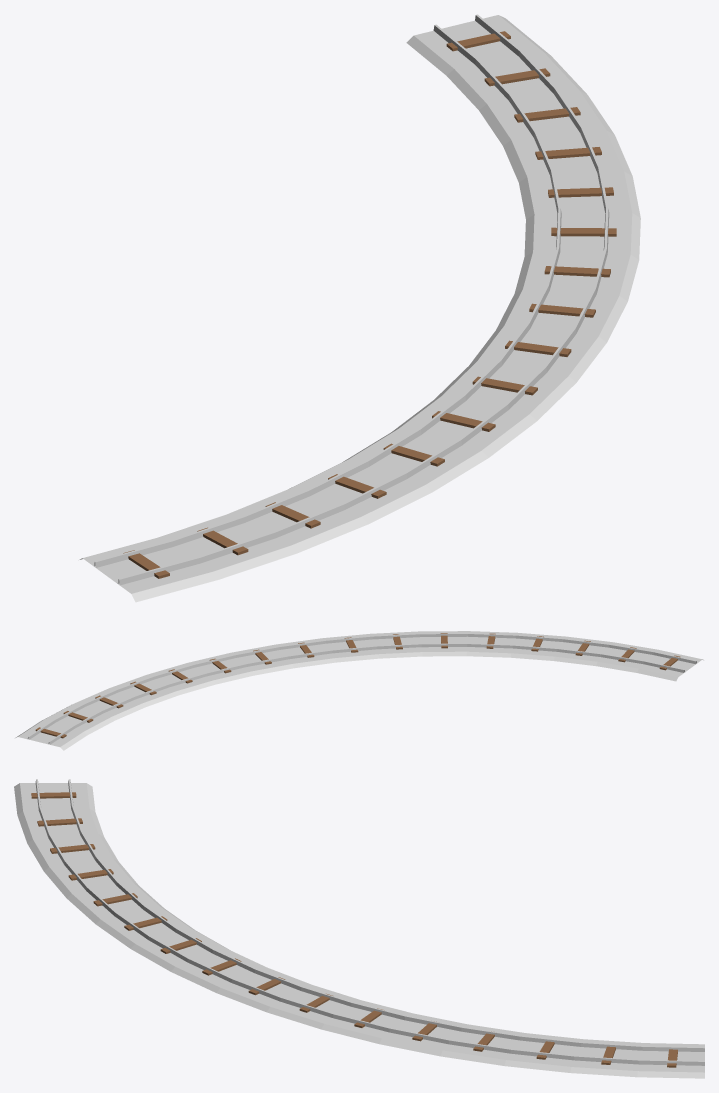
The model's file is 1_curve_large.fbx.
The picture shows the model from 3 angles, top to bottom: view 1: azimuth 30°, elevation 25°; view 2: azimuth 150°, elevation 25°; view 3: azimuth 270°, elevation 25°; orthographic projection. The views are drawn at different scales.
Visible parts, largest first — view 1: 1_curve_large; view 2: 1_curve_large; view 3: 1_curve_large.
Boxes of the visible parts, <box> form: 1_curve_large: <box>79,14,640,602</box>; 1_curve_large: <box>15,631,703,750</box>; 1_curve_large: <box>14,779,704,1078</box>.
Size of the model in its own units: 16.96 by 0.2 by 16.96.
